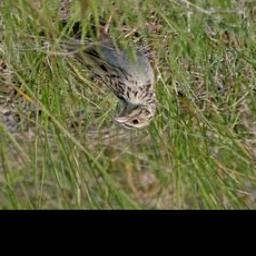Sparrow: (35, 5, 158, 133)
